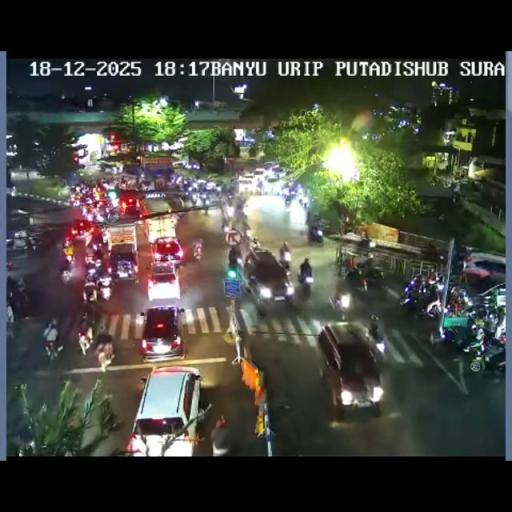Car: (124, 364, 202, 454), (315, 322, 384, 415), (232, 235, 294, 311), (138, 304, 186, 361), (458, 254, 505, 291), (146, 260, 182, 303), (108, 242, 138, 283), (150, 236, 184, 267), (66, 218, 96, 244), (119, 196, 144, 218), (252, 168, 270, 190), (237, 174, 254, 192)
Motorcycle: (342, 262, 386, 306), (438, 318, 476, 354), (476, 338, 506, 375), (400, 285, 429, 318), (92, 330, 114, 370), (6, 282, 29, 318), (13, 421, 37, 455), (76, 312, 93, 354), (446, 287, 468, 316), (44, 337, 64, 368), (330, 290, 352, 318), (85, 258, 105, 284), (298, 258, 312, 294), (368, 326, 386, 354), (419, 242, 441, 262), (82, 279, 98, 306), (219, 198, 233, 228), (424, 296, 443, 318), (422, 266, 440, 286), (98, 280, 112, 302), (229, 244, 242, 266), (308, 224, 323, 242), (25, 236, 41, 252), (239, 218, 251, 238), (362, 253, 374, 272), (182, 180, 198, 194), (61, 267, 73, 285), (105, 205, 118, 221), (192, 242, 202, 262), (357, 236, 371, 250), (342, 216, 352, 234), (452, 190, 463, 206), (241, 199, 250, 215), (190, 192, 200, 206), (280, 258, 290, 272), (251, 236, 261, 250), (140, 179, 150, 191), (6, 261, 18, 271), (284, 193, 293, 206), (222, 222, 230, 236), (214, 182, 222, 196), (202, 202, 210, 215), (298, 198, 303, 209)
